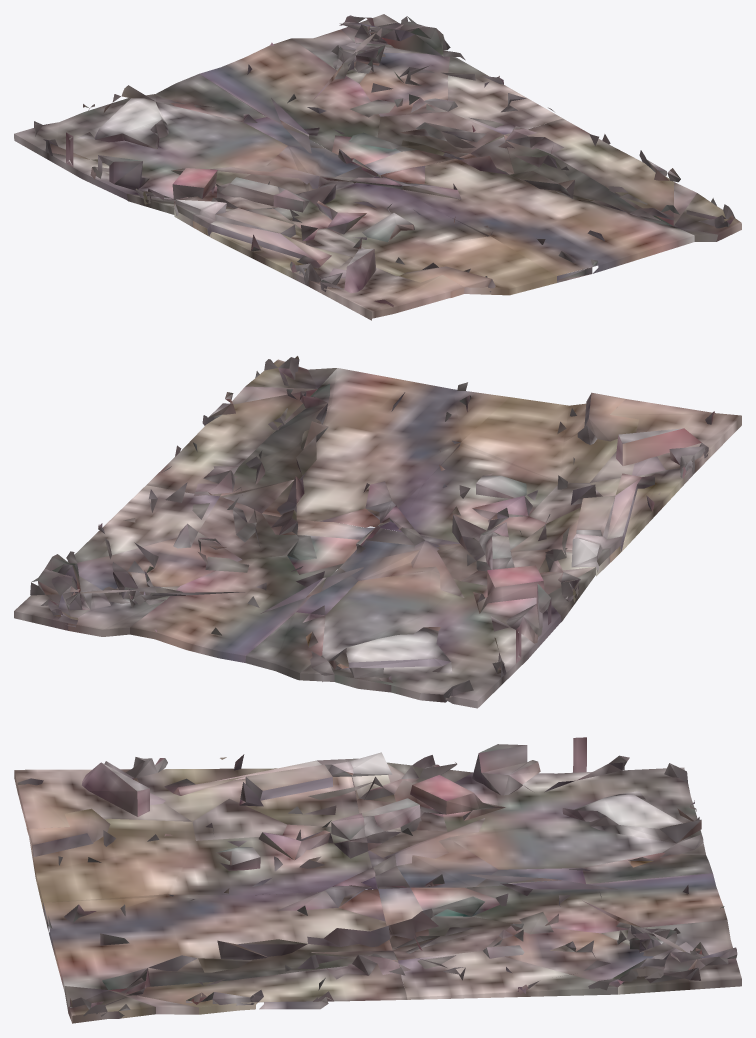
3 views of the same model, one above another, from view 1: azimuth 30°, elevation 25°; view 2: azimuth 150°, elevation 25°; view 3: azimuth 270°, elevation 25° (orthographic). The views are drawn at different scales.
Parts seen in each view (by area): view 1: Mesh_0; view 2: Mesh_0; view 3: Mesh_0.
Part boxes in pixels (left/top/right/bottom): Mesh_0: left=14, top=14, right=741, bottom=320; Mesh_0: left=14, top=356, right=741, bottom=708; Mesh_0: left=14, top=737, right=741, bottom=1023.
Size of the model in its own units: 532 by 57.2 by 659.
1 material, 1 textured.
